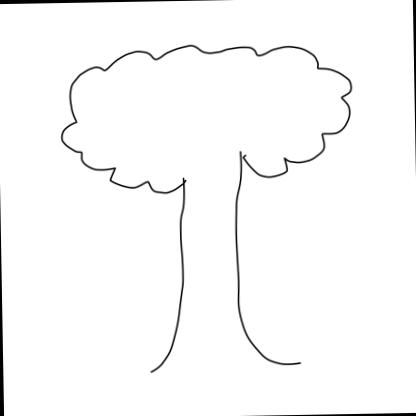crown_cloud: (58, 38, 356, 196)
trunk_straight: (174, 210, 245, 325)
